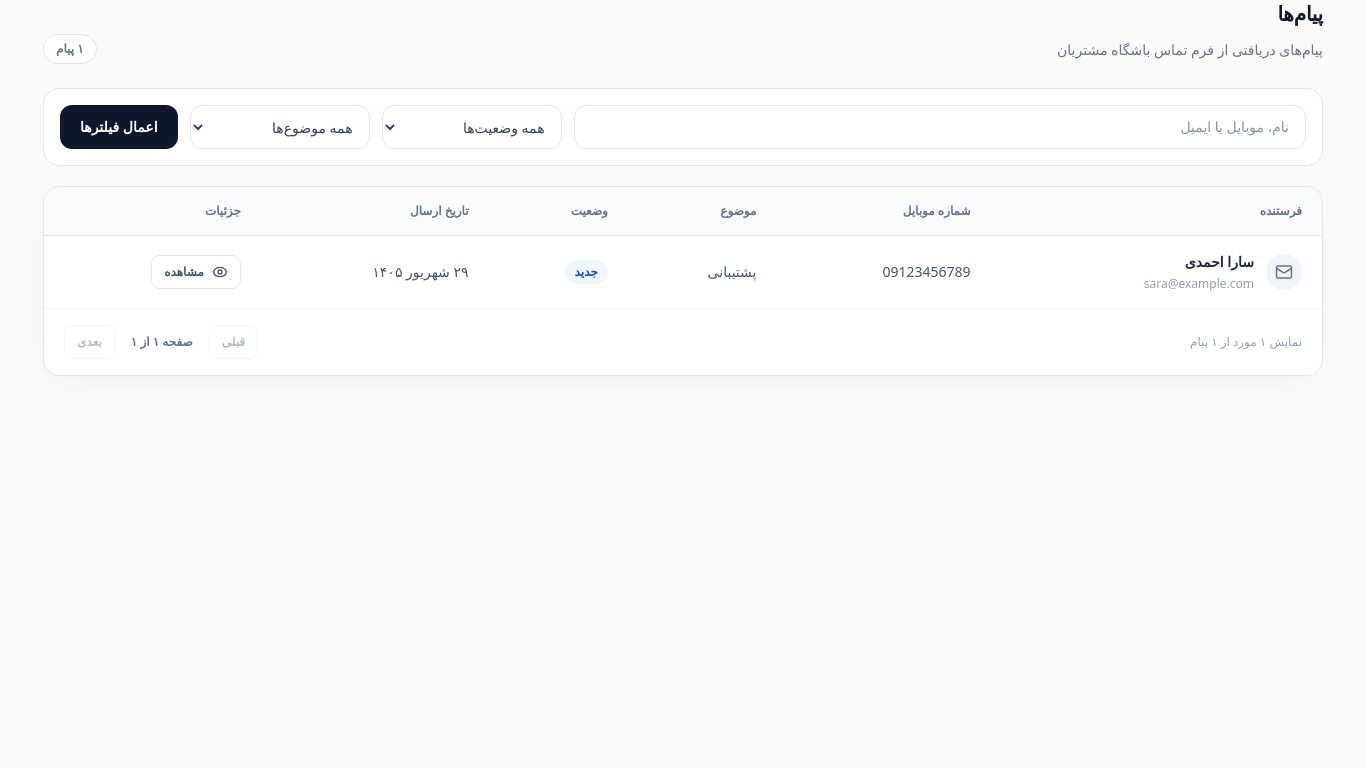
Test: AdminMessagesSection › opens a message and loads its full details
The image size is (1366, 768).
Expected: the text "سارا احمدی" is shown, [1185,252,1254,271]
Click the button with aria-label "مشاهده پیام سارا احمدی" at {"x": 196, "y": 272}, box [151,255,241,289]
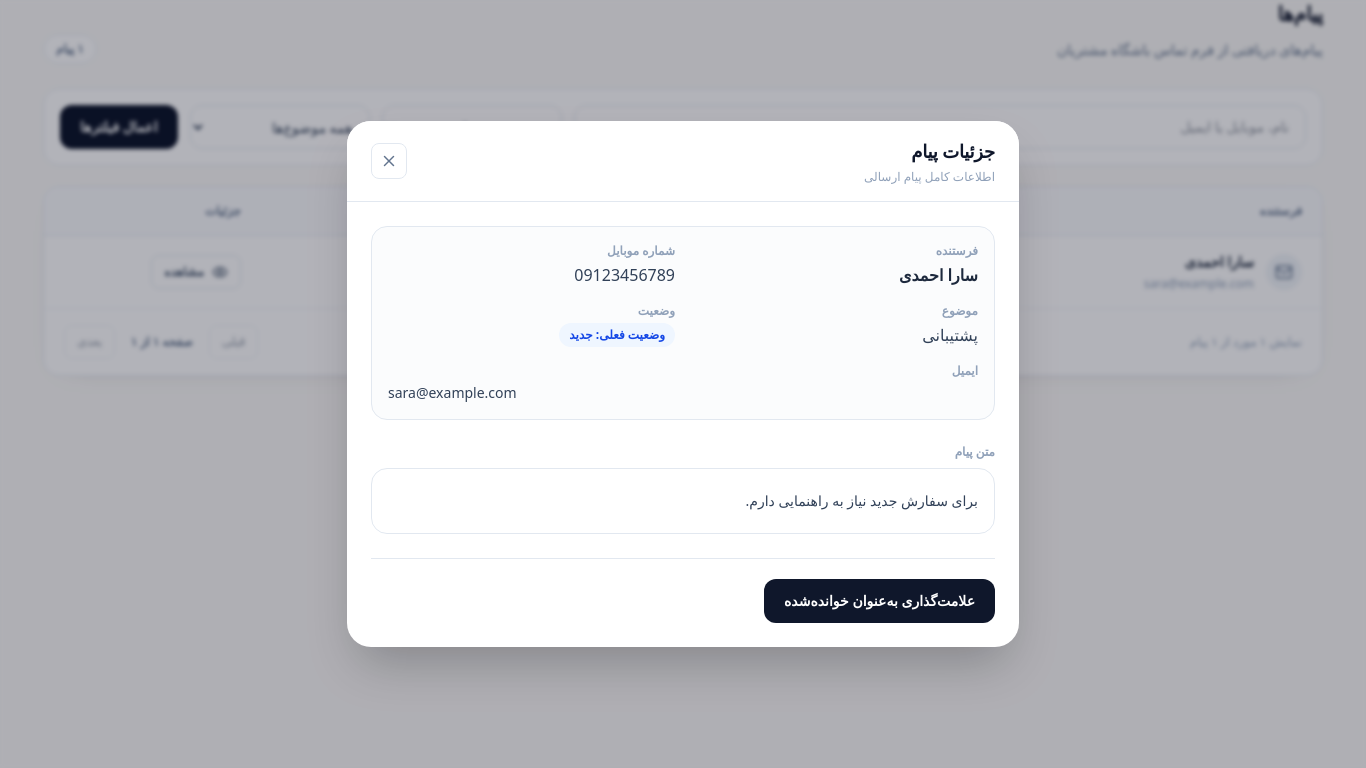
Expected: the dialog "جزئیات پیام" is shown, [347,121,1019,647]
Expected: the text "برای سفارش جدید نیاز به راهنمایی دارم." is shown, [371,468,995,534]
